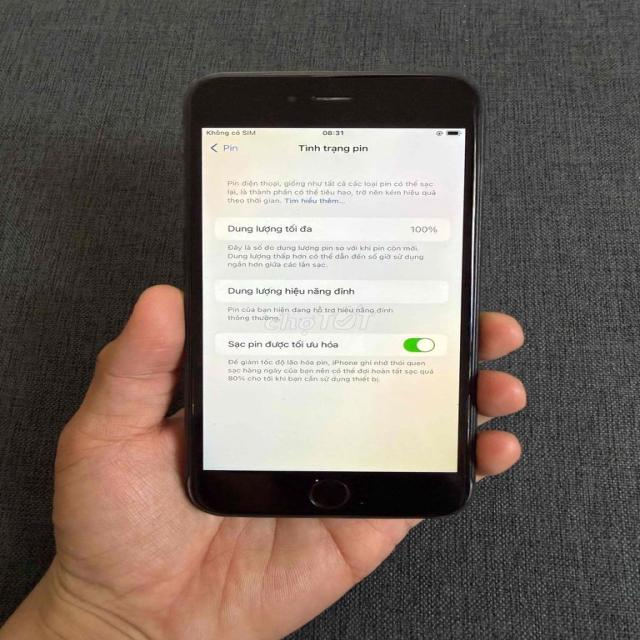gen_6: (185, 74, 481, 517)
